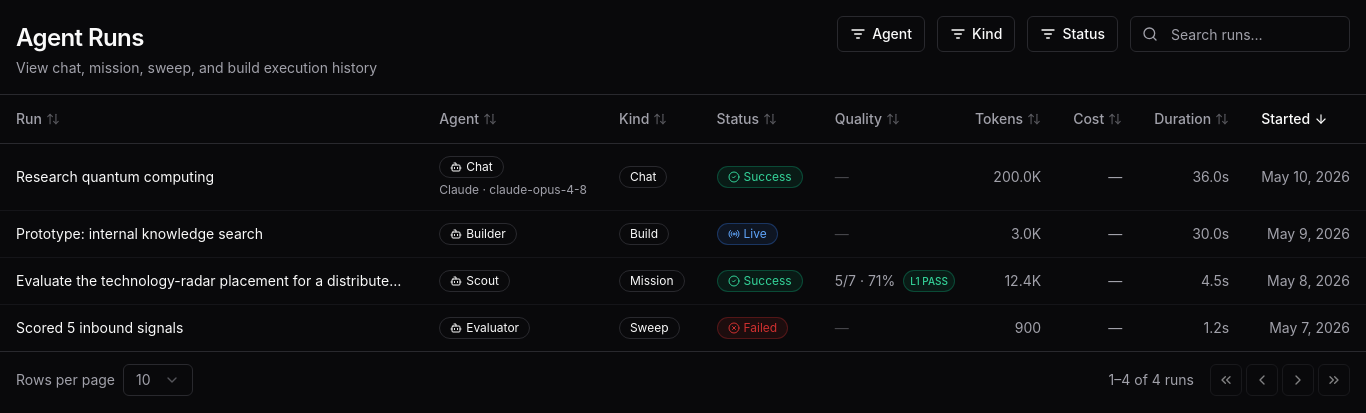
Scenario: RunsTable chat truth › searches provider and model in addition to the turn description
Step 1. Type "opus-4-8" into the search field with test id "runs-search-input" → {"x": 1240, "y": 34}, box [1130,16,1350,52]
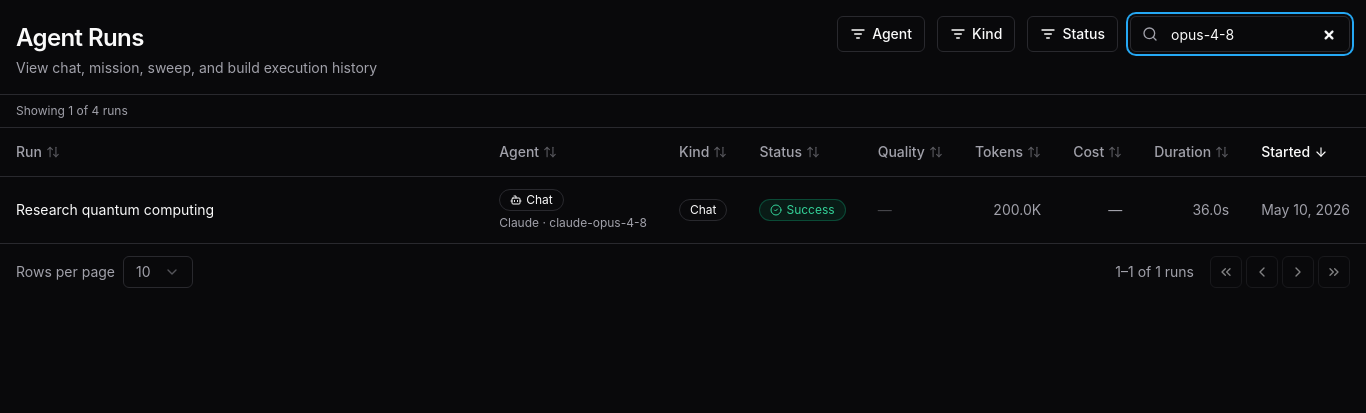
Expected: the row with test id "run-row-run-chat-1" is shown, [0,176,1365,242]
Expected: the row with test id "run-row-run-mission-1" is gone
